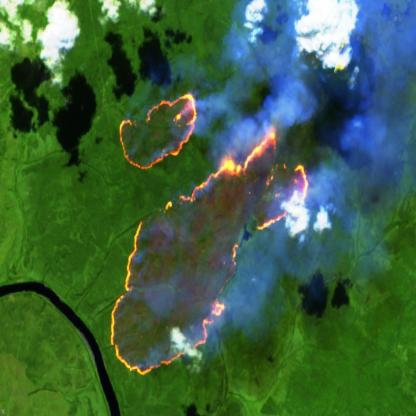fire: (108, 89, 311, 378)
